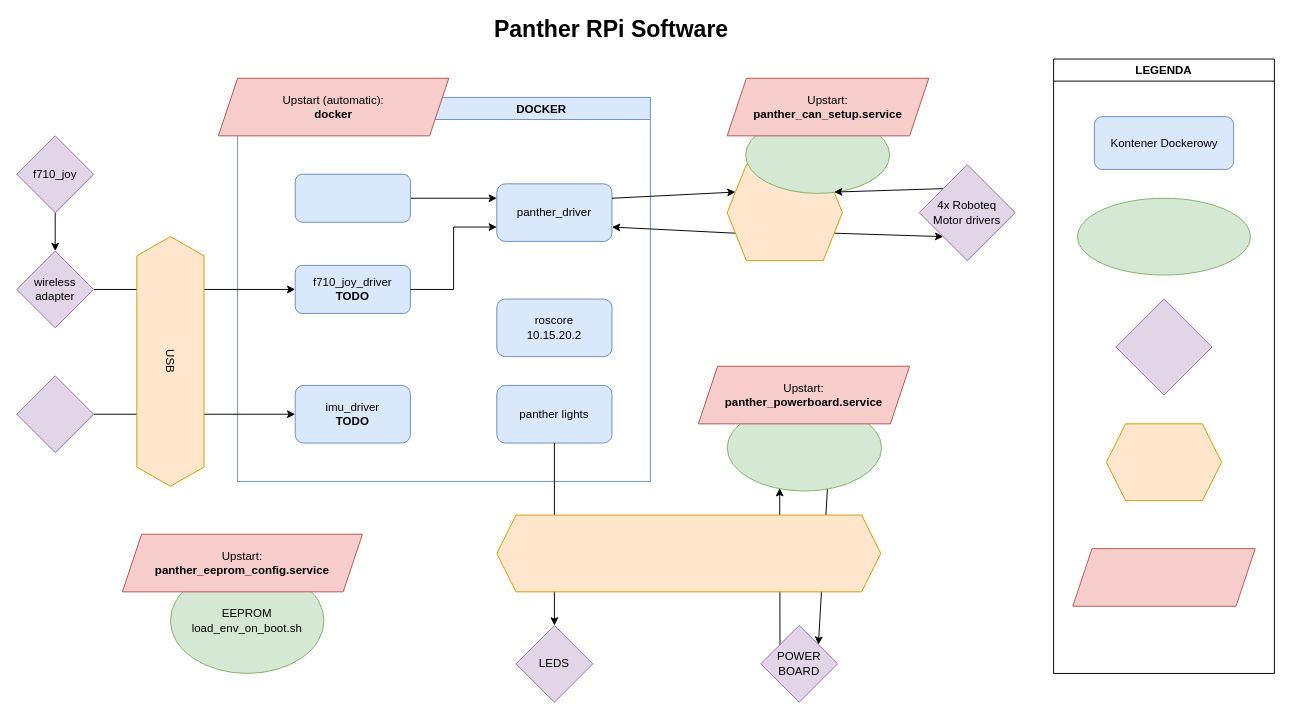
Some shapes in this 1291 by 719 pixel diagram are drawn without their labels. The shapes that lost their labels are listed below. From the top down, each one's centre as x and y in pixels, then its label:
(817,154): panther_can_setup.sh
(352,197): webui_joystick
(784,212): CAN
(1163,236): skrypt
(1163,346): Element Hardware
(55,414): IMU
(804,447): panther_powerboard.py
(1163,462): Protokół komunikacji
(688,553): GPIO
(1163,577): Setwis uruchamiający funkcjonalność na RPI
